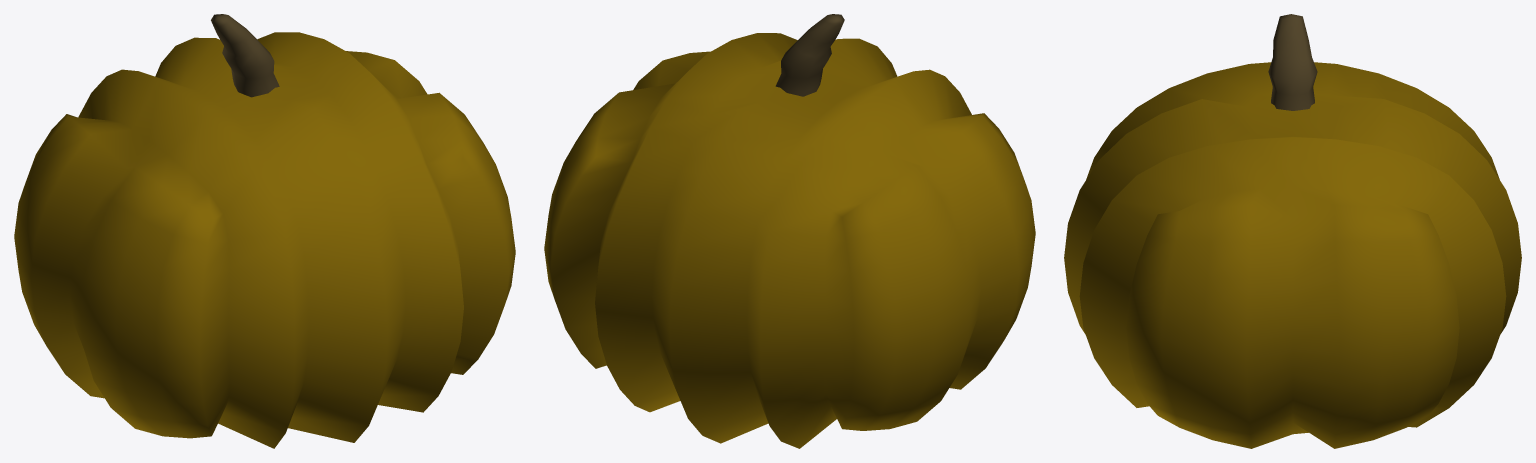
File: SM_Pumpkin.fbx
3 renders of one model, left to right at view 1: azimuth 30°, elevation 25°; view 2: azimuth 150°, elevation 25°; view 3: azimuth 270°, elevation 25°, orthographic. The views are drawn at different scales.
Visible parts, largest first — view 1: pCube117; view 2: pCube117; view 3: pCube117.
Part boxes in pixels (box(x1,y1,x2,y2)): pCube117: box(14, 14, 515, 448); pCube117: box(544, 14, 1035, 448); pCube117: box(1064, 14, 1521, 448).
Bounding box in the file's own units: 82.03 × 73.85 × 83.46.
